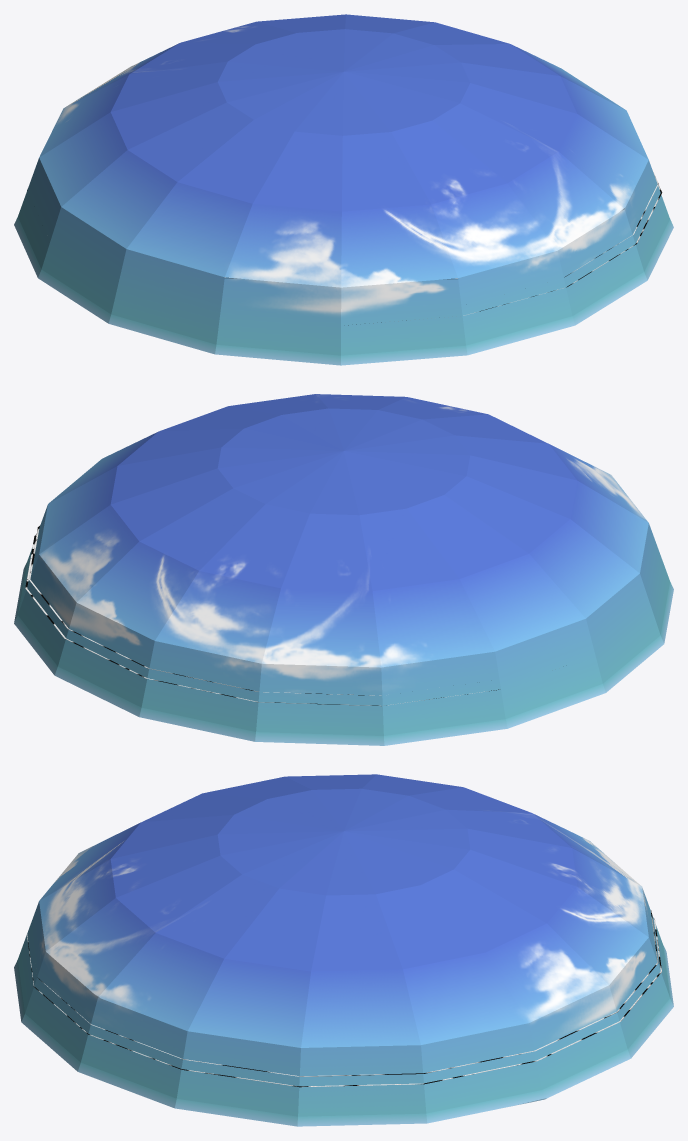
File: PeFdAr07Zn01SKY.obj
The picture shows the model from 3 angles, top to bottom: view 1: azimuth 30°, elevation 25°; view 2: azimuth 150°, elevation 25°; view 3: azimuth 270°, elevation 25°; orthographic projection.
Visible parts, largest first — view 1: polygon1; view 2: polygon1, polygon3; view 3: polygon1, polygon3.
Part boxes in pixels (x1=…): polygon1: x1=14, y1=14, x2=673, y2=365; polygon1: x1=14, y1=394, x2=673, y2=745; polygon3: x1=25, y1=526, x2=498, y2=706; polygon1: x1=14, y1=774, x2=673, y2=1126; polygon3: x1=27, y1=910, x2=661, y2=1087.
Size of the model in its own units: 10726 by 2795 by 10726.
5 materials, 5 textured.
